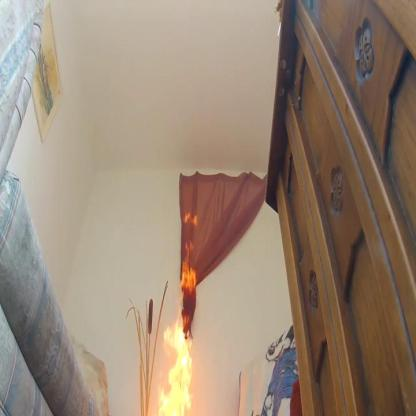fire: (157, 304, 196, 416), (179, 242, 197, 296), (184, 209, 200, 232)
